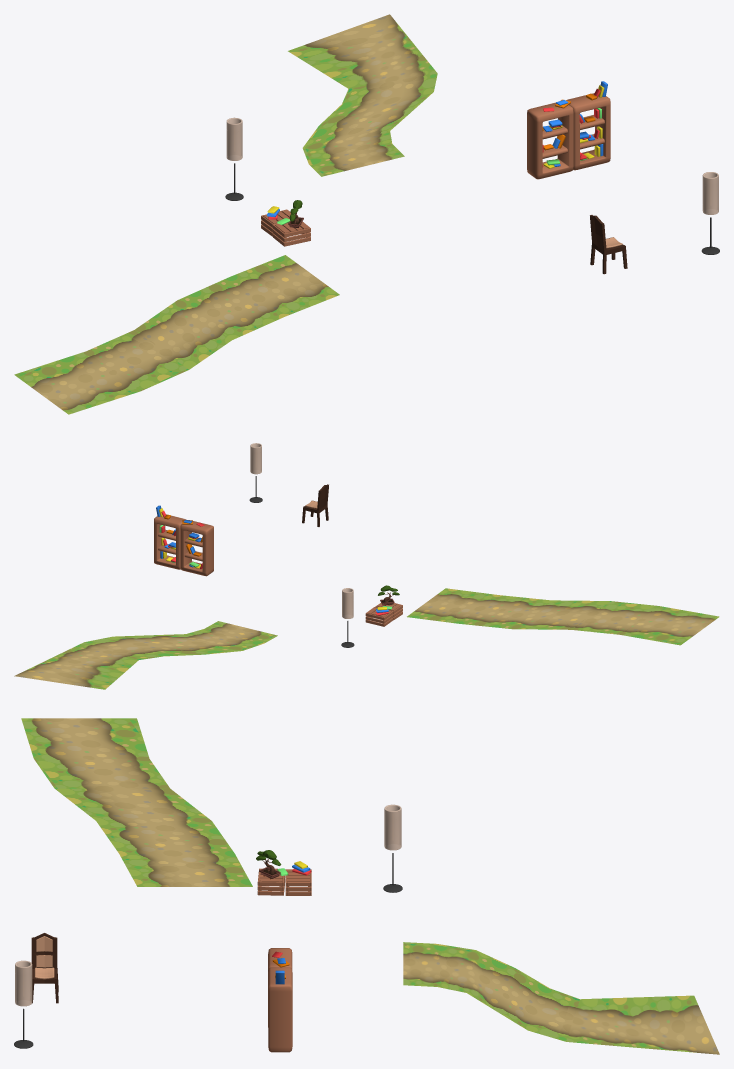
Rendered from d2x2Shape Sampleroom - Deko.glb.
3 views of the same model, one above another, from view 1: azimuth 30°, elevation 25°; view 2: azimuth 150°, elevation 25°; view 3: azimuth 270°, elevation 25° (orthographic). The views are drawn at different scales.
Visible parts, largest first — view 1: Deko_2x2 suburb; view 2: Deko_2x2 suburb; view 3: Deko_2x2 suburb.
Part boxes in pixels (x1,y1,x2,y2): Deko_2x2 suburb: [14, 14, 719, 414]; Deko_2x2 suburb: [14, 443, 719, 689]; Deko_2x2 suburb: [14, 718, 719, 1054].
Size of the model in its own units: 15.8 by 1.88 by 13.84.
Materials: 6 (2 with a texture image).
